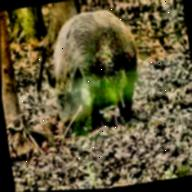boar: (19, 0, 155, 139)
